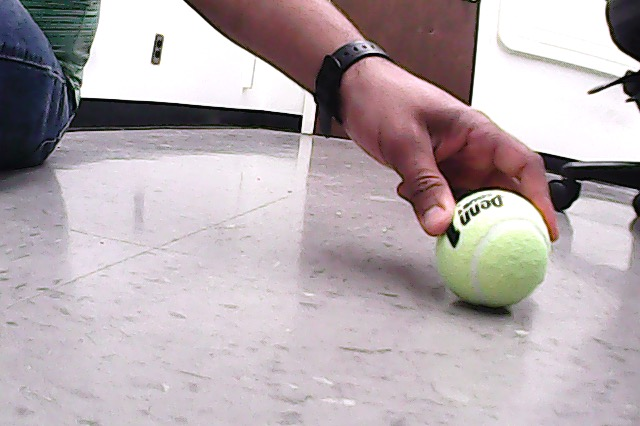ball: (437, 190, 551, 309)
